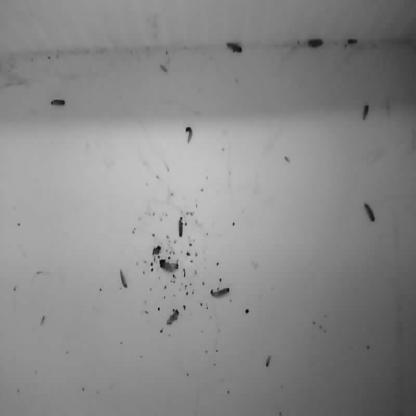PtecticusTenebrifer: (159, 258, 179, 272), (364, 201, 376, 222), (211, 287, 231, 299), (166, 309, 180, 326), (225, 41, 243, 54), (48, 97, 66, 108), (119, 268, 128, 288), (307, 38, 324, 47), (178, 216, 184, 240), (185, 126, 194, 141), (362, 104, 369, 120), (348, 38, 358, 46)
